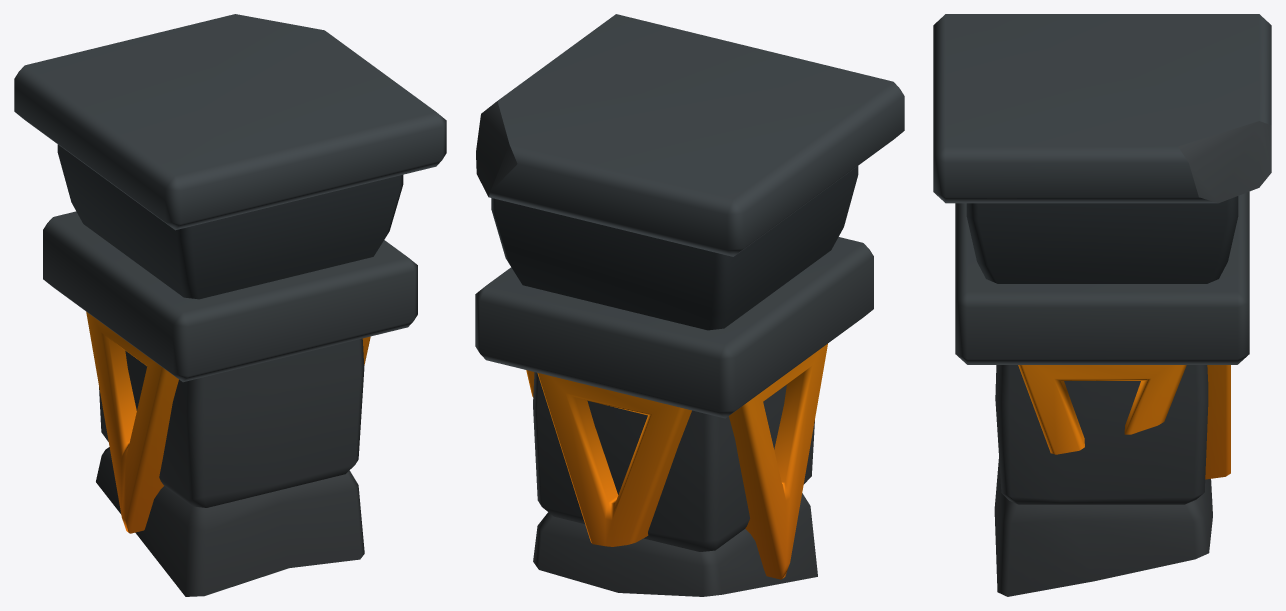
Rendered from inferno-column-big-broken-002.glb.
3 renders of one model, left to right at view 1: azimuth 30°, elevation 25°; view 2: azimuth 150°, elevation 25°; view 3: azimuth 270°, elevation 25°, orthographic. The views are drawn at different scales.
Parts seen in each view (by area): view 1: ColumnBigBroken_002; view 2: ColumnBigBroken_002; view 3: ColumnBigBroken_002.
Boxes of the visible parts, left/top/right/bottom form: ColumnBigBroken_002: left=14, top=14, right=446, bottom=596; ColumnBigBroken_002: left=475, top=14, right=904, bottom=596; ColumnBigBroken_002: left=933, top=14, right=1271, bottom=596.
Size of the model in its own units: 2.4 by 3.69 by 2.4.
2 materials, 2 textured.
